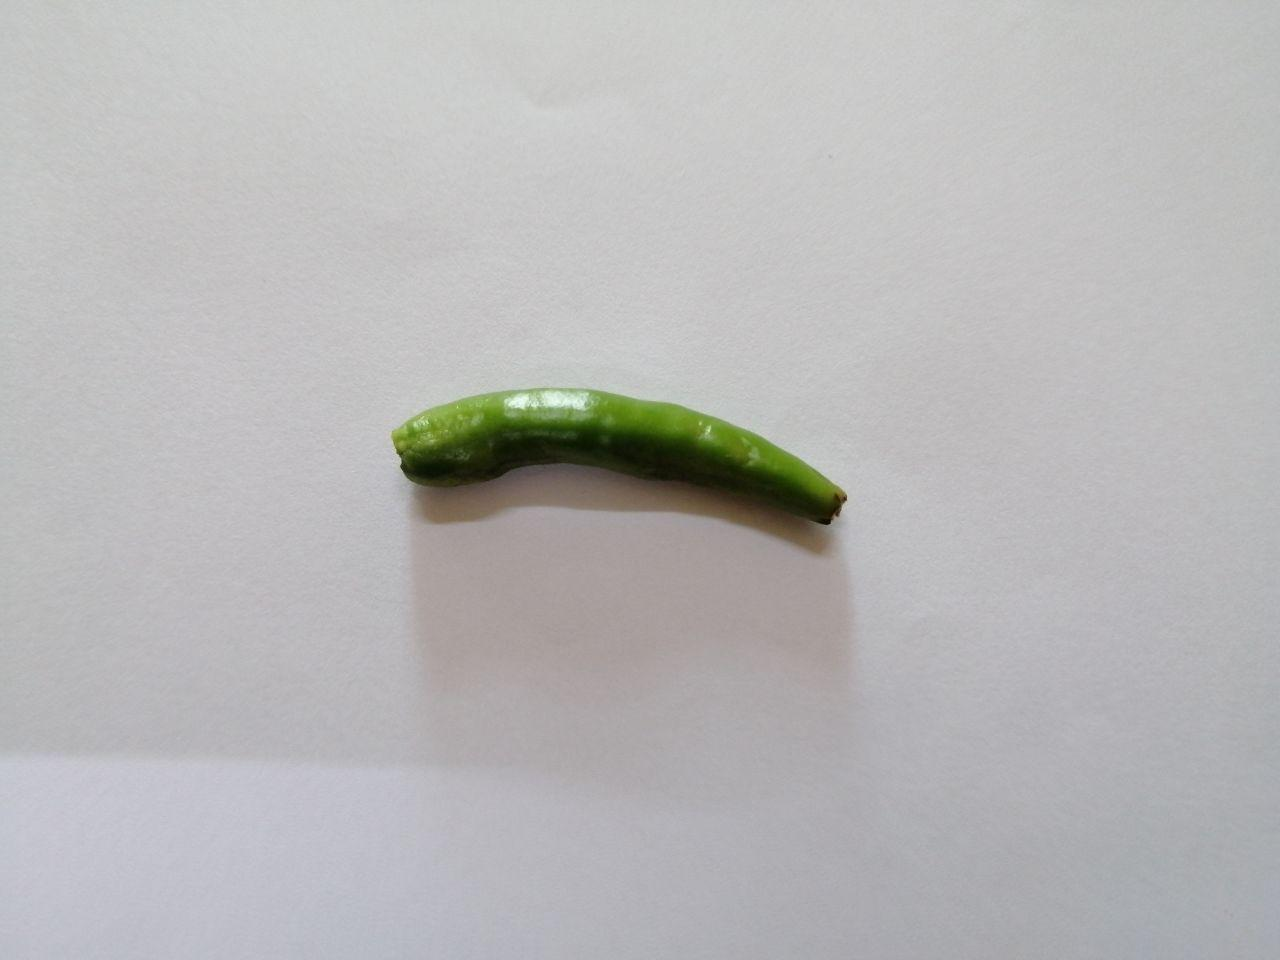lada hijau: (384, 377, 868, 572)
